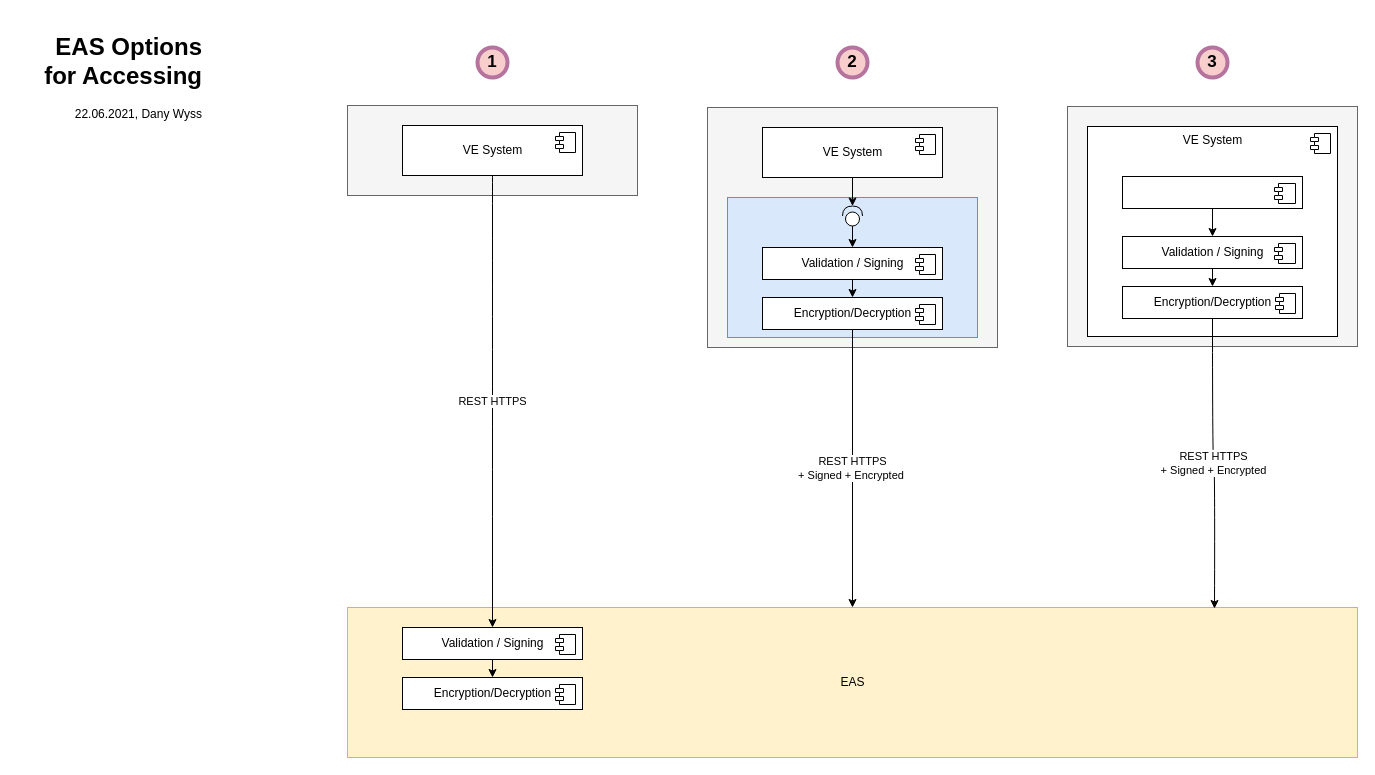
Some shapes in this 1375 by 775 pixel diagram are drawn without their labels. The box of each missing label's shape, as (x1, y1, x2, y2) in pixels:
Business Logic: (1122, 176, 1302, 208)
EAS API: (842, 205, 862, 226)
EAS Client: (726, 196, 978, 338)
VE direct: (346, 104, 638, 196)
VE with custom implementation: (1066, 106, 1358, 346)
VE with EAS Client: (706, 106, 998, 348)
